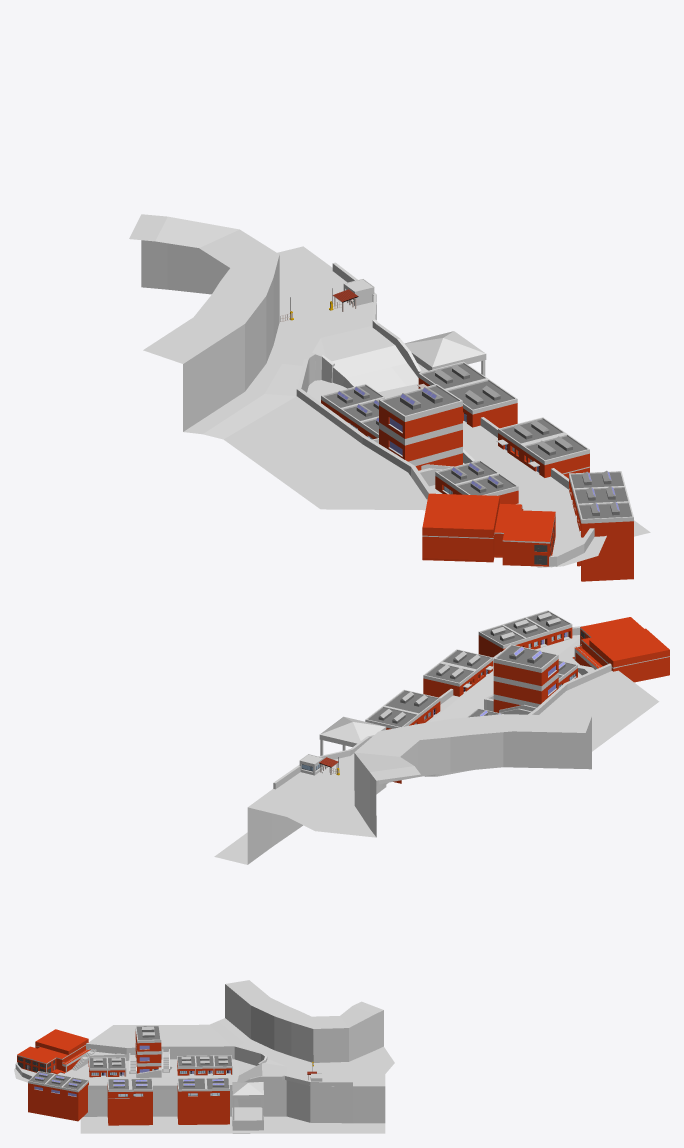
The model's file is Harita v1.fbx.
The picture shows the model from 3 angles, top to bottom: view 1: azimuth 30°, elevation 25°; view 2: azimuth 150°, elevation 25°; view 3: azimuth 270°, elevation 25°; orthographic projection. The views are drawn at different scales.
Parts seen in each view (by area): view 1: Plane, yemekhane, closed room, bina kapali, heykel 1, heykel 2, Plane.001, bina dot, Cube.006, bina graf, Cube.007, Cube.009; view 2: Plane, yemekhane, closed room, bina kapali, heykel 1, heykel 2, Cube.006, Plane.001, Cube.007; view 3: Plane, bina kapali, heykel 2, yemekhane, heykel 1, Plane.001, Cube.006, closed room, bina graf, bina dot, Cube.007.
Boxes of the visible parts, x1,y1,x2,y2 form: Plane: [129, 214, 650, 567]; yemekhane: [422, 493, 555, 566]; closed room: [379, 384, 462, 470]; bina kapali: [569, 470, 633, 581]; heykel 1: [498, 417, 589, 478]; heykel 2: [418, 361, 517, 428]; Plane.001: [296, 353, 438, 499]; bina dot: [435, 460, 518, 504]; Cube.006: [404, 331, 486, 375]; bina graf: [321, 384, 385, 439]; Cube.007: [332, 262, 422, 377]; Cube.009: [549, 468, 594, 567]; Plane: [214, 635, 659, 864]; yemekhane: [572, 617, 669, 682]; closed room: [493, 644, 558, 712]; bina kapali: [478, 610, 572, 657]; heykel 1: [423, 649, 492, 697]; heykel 2: [365, 689, 440, 783]; Cube.006: [319, 716, 386, 794]; Plane.001: [425, 663, 611, 776]; Cube.007: [273, 735, 373, 789]; Plane: [14, 980, 394, 1133]; bina kapali: [28, 1071, 88, 1121]; heykel 2: [177, 1077, 229, 1124]; yemekhane: [17, 1029, 90, 1074]; heykel 1: [107, 1078, 152, 1125]; Plane.001: [86, 1043, 267, 1065]; Cube.006: [232, 1082, 263, 1133]; closed room: [135, 1025, 161, 1073]; bina graf: [177, 1055, 232, 1075]; bina dot: [88, 1057, 126, 1077]; Cube.007: [229, 1075, 352, 1090].
Bounding box in the file's own units: 12782 × 42767 × 5515.
